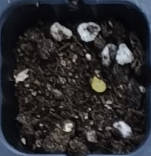chilli seed: (89, 75, 107, 92)
